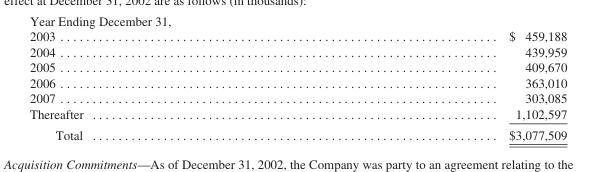table: (28, 28, 566, 141)
table column: (295, 28, 566, 141), (28, 28, 295, 141)
table row: (28, 105, 566, 123), (28, 123, 566, 141), (28, 43, 566, 59), (28, 74, 566, 90), (28, 28, 566, 43), (28, 59, 566, 74), (28, 90, 566, 105)
